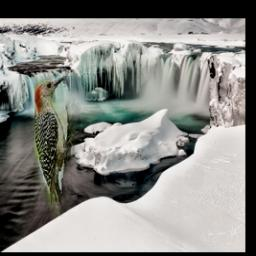Woodpecker: (35, 76, 81, 217)
